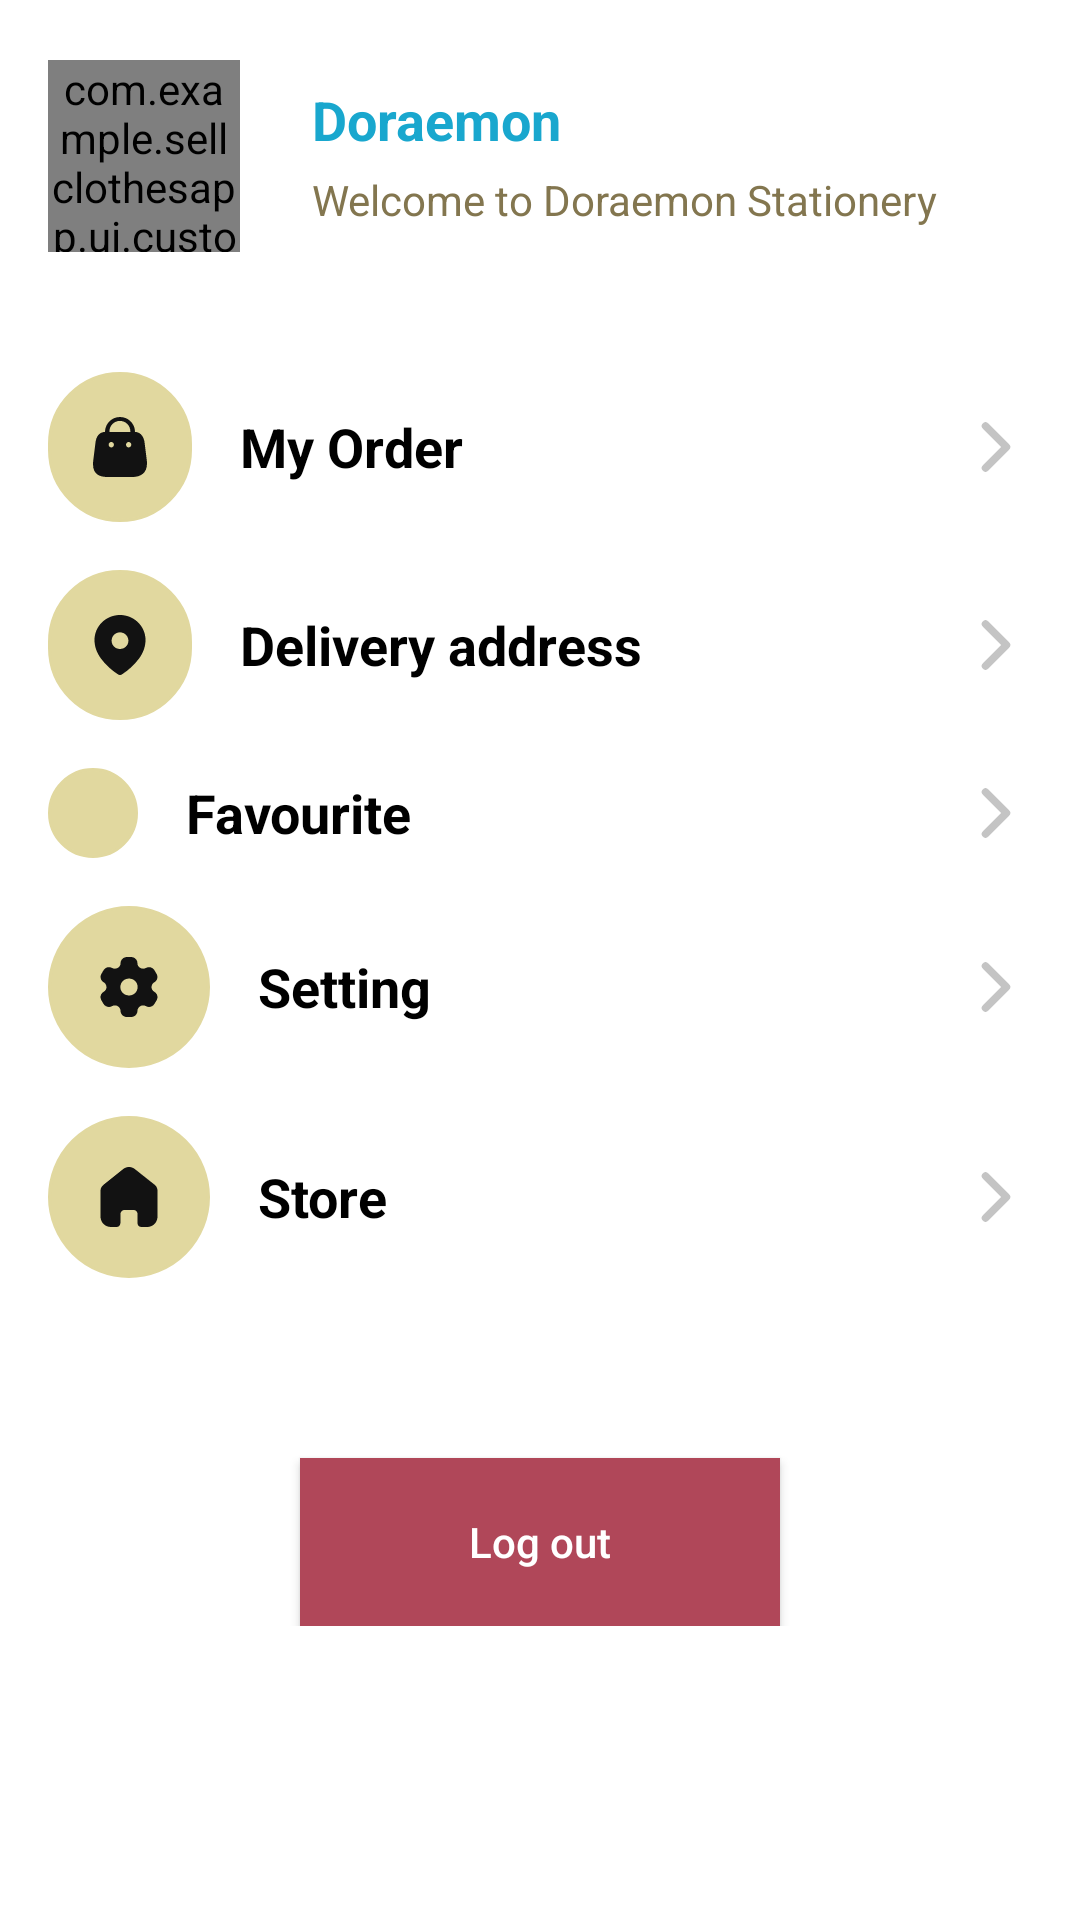

Point at icon controls on the screen. Image size 1080w x 1920h, points as (x=x, y=y).
bag: (x=120, y=447)
home: (x=129, y=1197)
location: (x=120, y=645)
